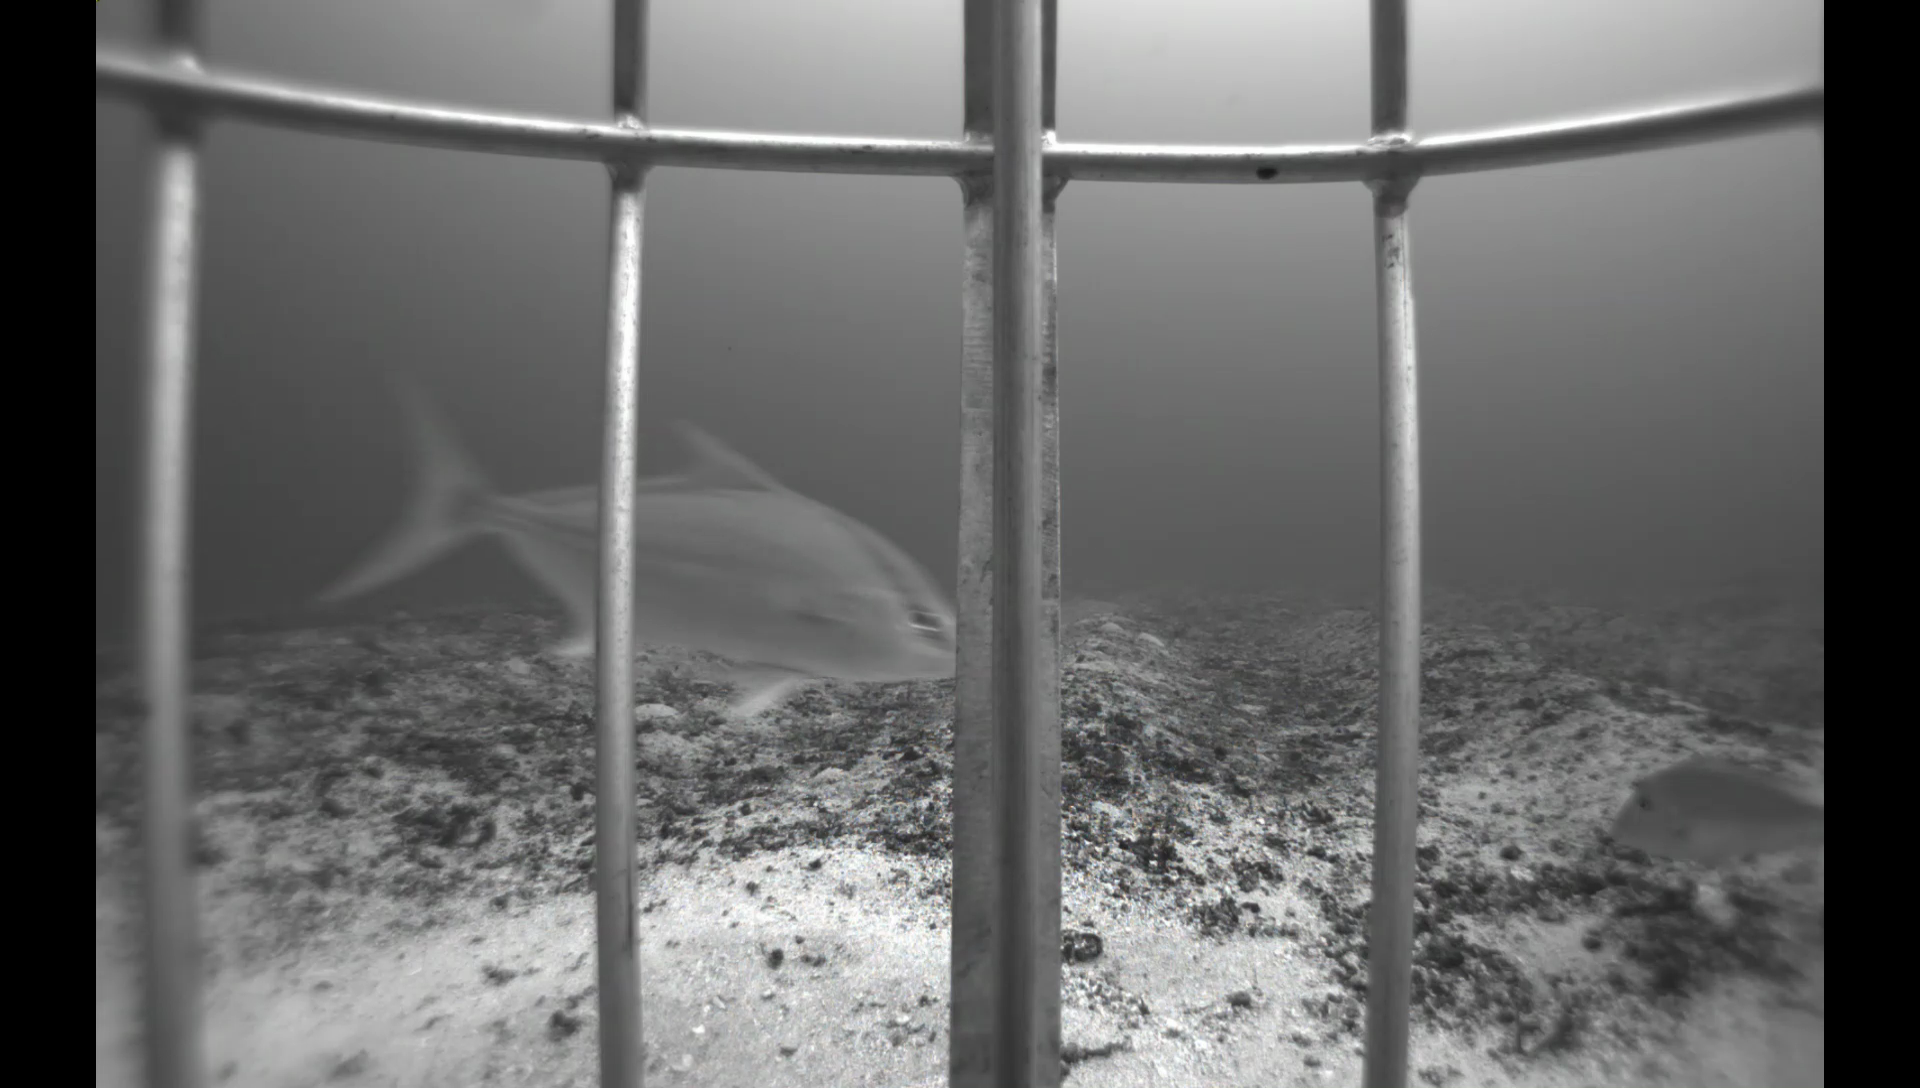CALAMUSPRORIDENS-170210605: (1598, 746, 1825, 877)
SERIOLARIVOLIANA-170113105: (268, 314, 957, 728)
